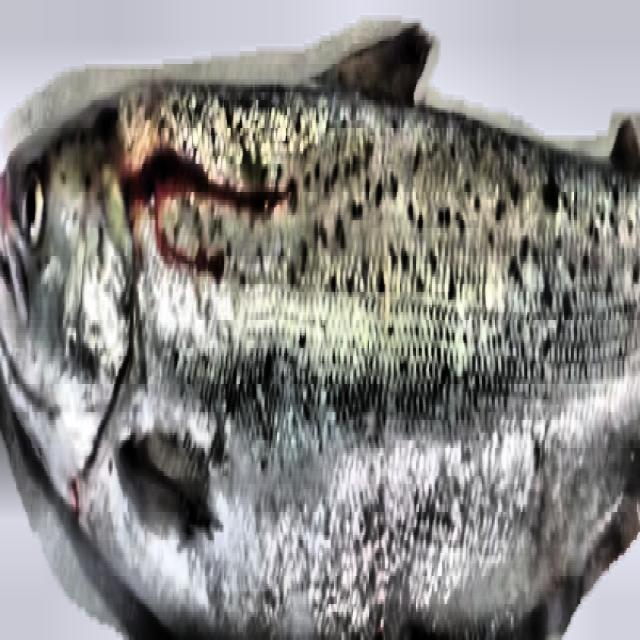mild_red: (82, 87, 639, 637)
wound: (116, 140, 299, 289)
